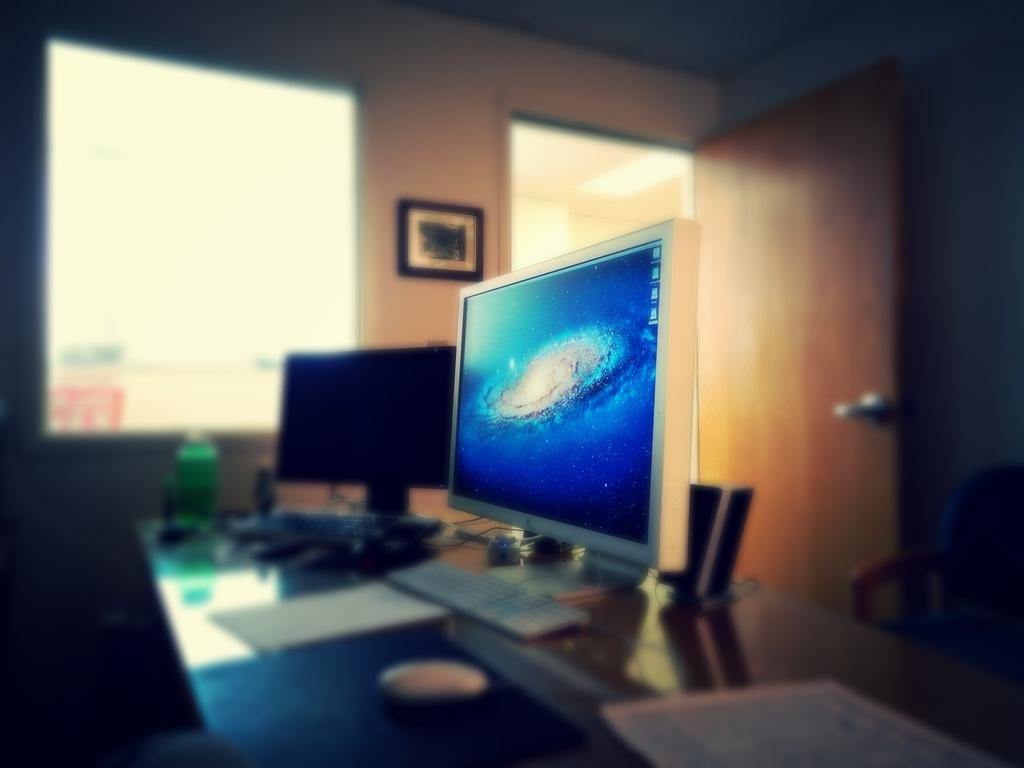Chair: (849, 461, 1023, 685)
Computer-monitor: (444, 214, 701, 597)
